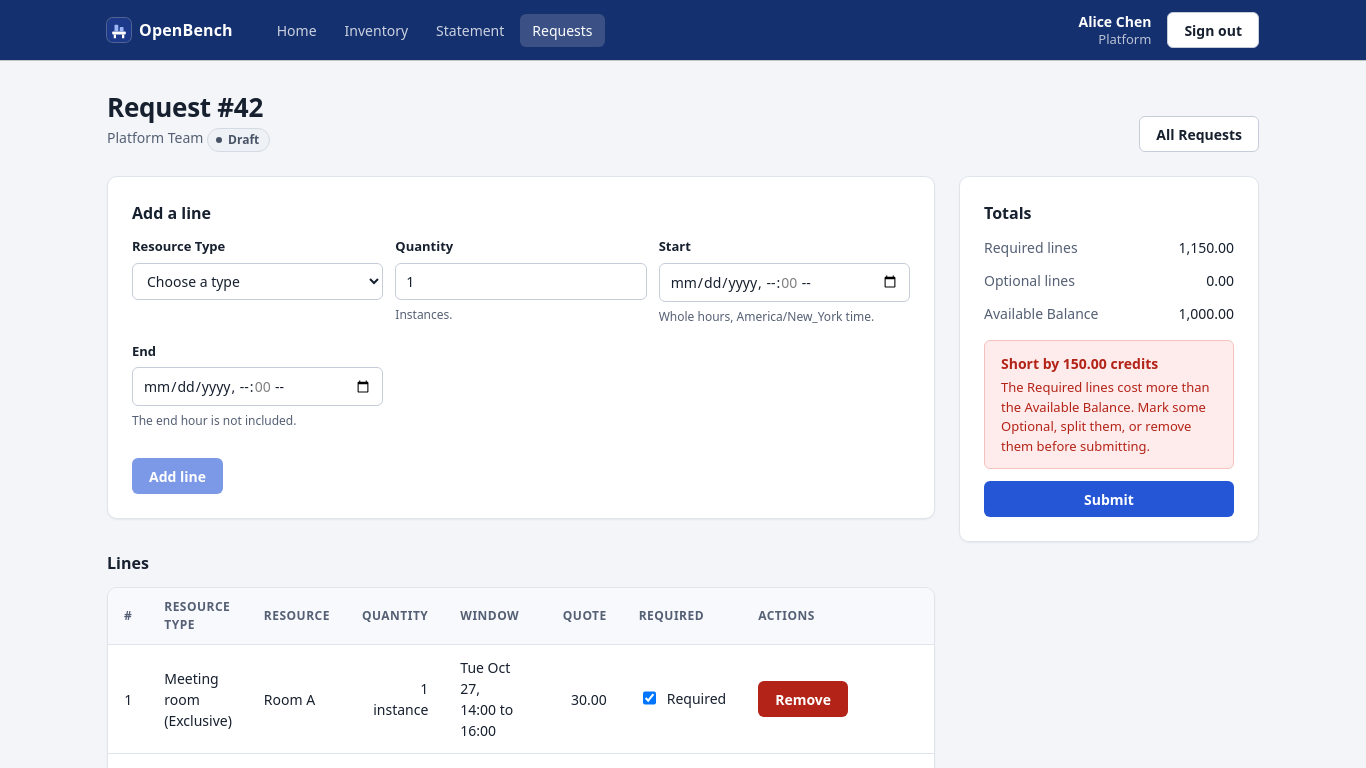
Test case: RequestPage, Submit › shows a refusal and the shortfall the server reports, and stays in the editor
The image size is (1366, 768).
Click the button "Submit": x=1109, y=499 top-left (984, 481), bottom-right (1234, 517)
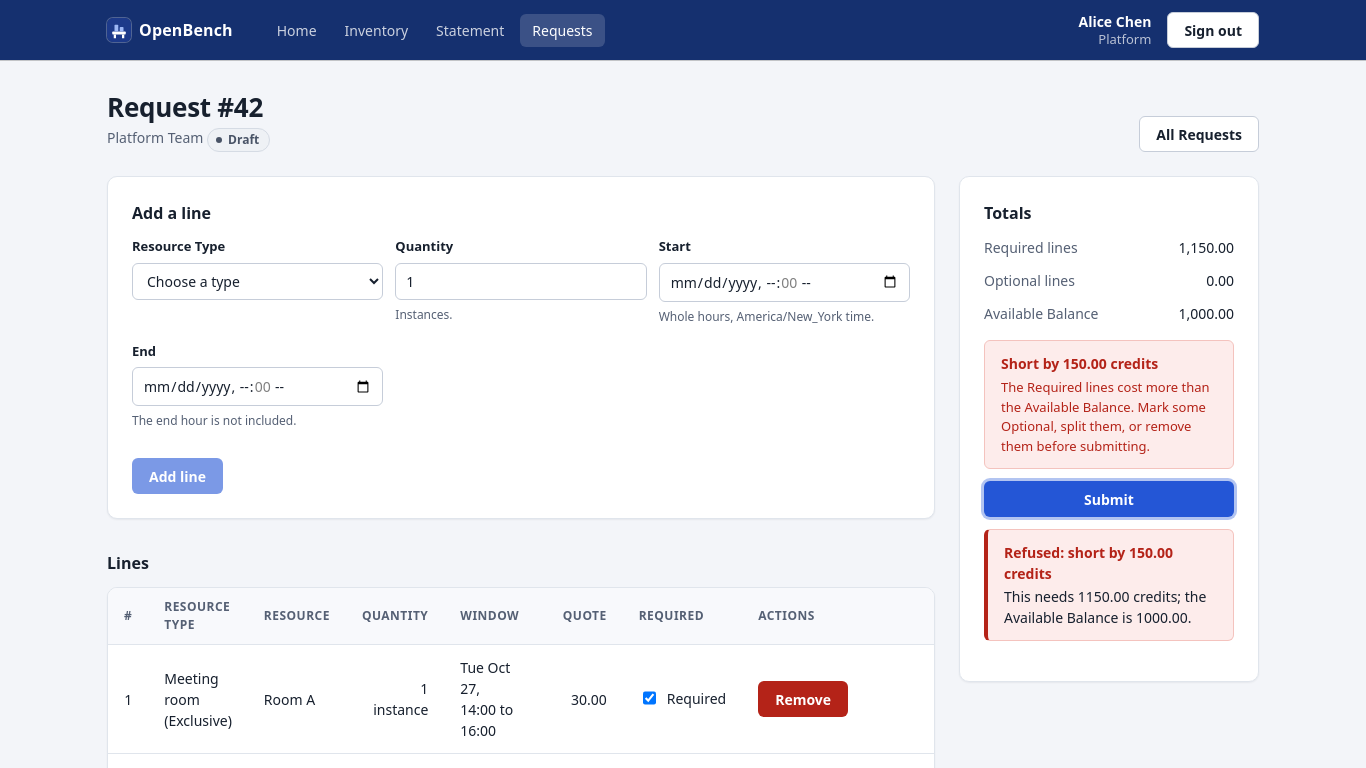
Check: the button "Add line" is shown, box top-left (132, 458), bottom-right (223, 494)
Check: the text "Refused: short by 150.00 credits" is shown, box top-left (1004, 543), bottom-right (1173, 583)
Check: the text "This needs 1150.00 credits; the Available Balance is 1000.00." is shown, box top-left (1004, 586), bottom-right (1217, 628)
